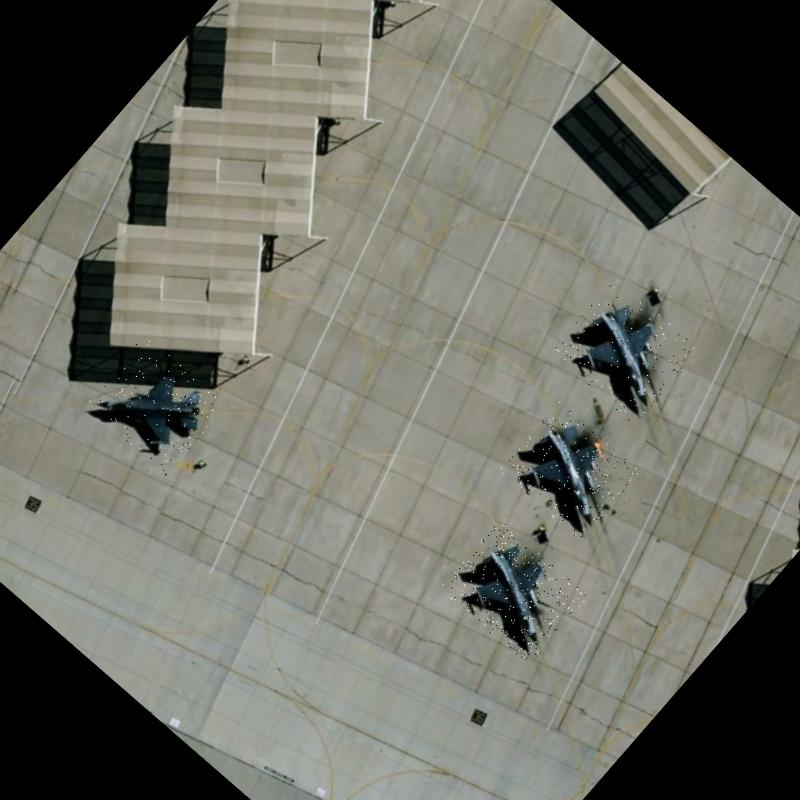A5: (439, 519, 589, 667), (550, 278, 699, 426), (84, 334, 226, 476), (499, 402, 640, 542)
